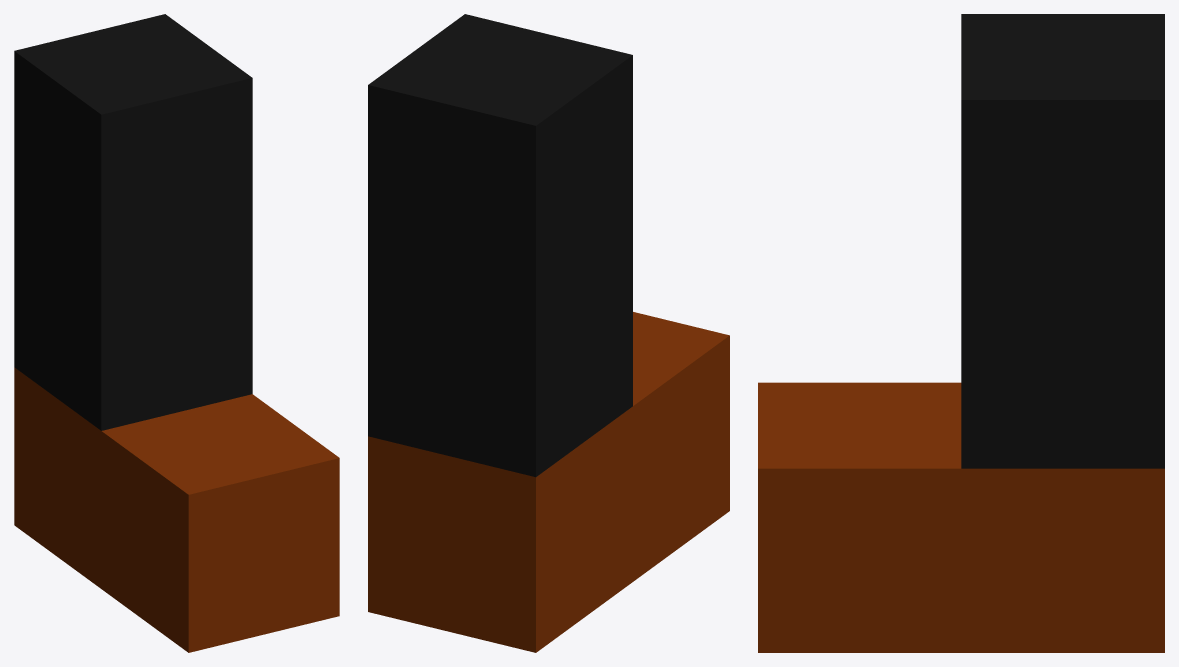
The model's file is DED-1.obj.
3 views of the same model, side by side, from view 1: azimuth 30°, elevation 25°; view 2: azimuth 150°, elevation 25°; view 3: azimuth 270°, elevation 25° (orthographic). The views are drawn at different scales.
Size of the model in its own units: 0.1 by 0.3 by 0.2.
1 material, 1 textured.
